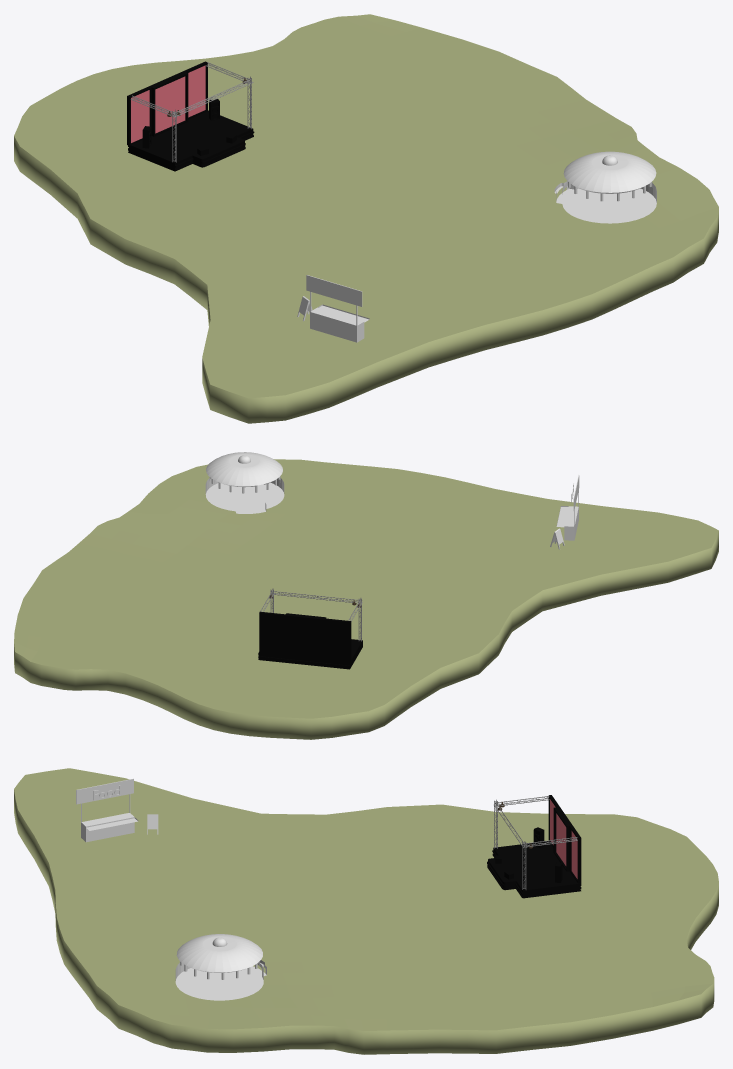
File: cloneworld.glb
3 renders of one model, top to bottom at view 1: azimuth 30°, elevation 25°; view 2: azimuth 150°, elevation 25°; view 3: azimuth 270°, elevation 25°, orthographic. The views are drawn at different scales.
Parts seen in each view (by area): view 1: Ground, Circle.003, Plane, Cube, Cube.005, Truss, bar; view 2: Ground, Circle.003, Cube, Plane, Truss, Cube.005; view 3: Ground, Circle.003, Plane, Cube, Cube.005, Truss, bar.
Boxes of the visible parts, x1,y1,x2,y2 form: Ground: (14,14,718,423); Circle.003: (554,151,656,223); Plane: (128,110,254,171); Cube: (127,61,207,145); Cube.005: (310,304,369,342); Truss: (130,62,253,162); bar: (306,275,362,306); Ground: (14,459,718,739); Circle.003: (205,452,284,513); Cube: (259,611,351,663); Plane: (258,639,362,669); Truss: (260,588,362,641); Cube.005: (556,506,578,540); Ground: (14,768,718,1054); Circle.003: (175,934,266,1000); Plane: (487,841,581,898); Cube: (548,795,581,883); Cube.005: (81,813,138,842); Truss: (494,796,577,889); bar: (76,778,133,804).
Bounding box in the file's own units: 426 × 59.6 × 481.
